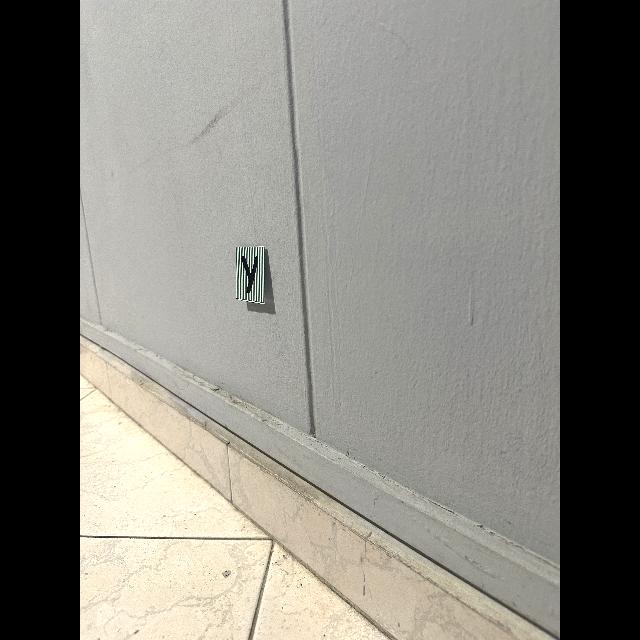Y: (241, 255, 258, 294)
